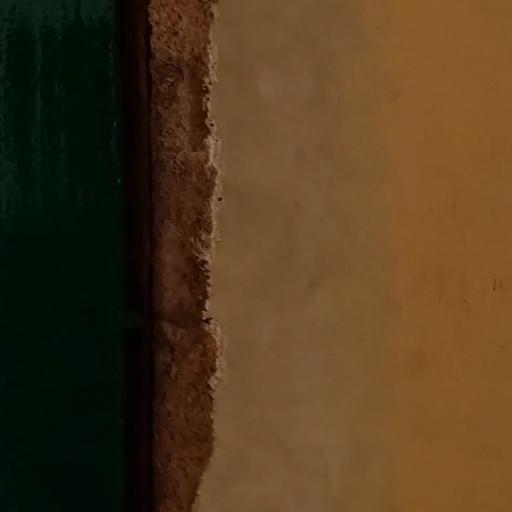spalling: (139, 12, 228, 512)
